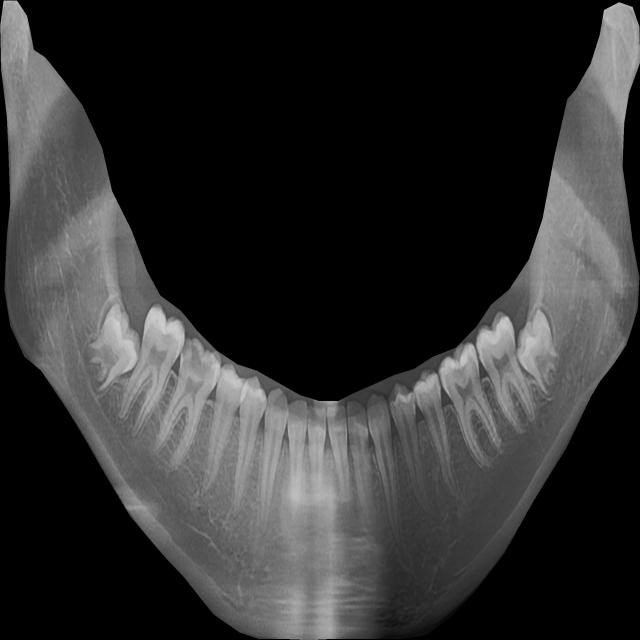mandibula: (0, 1, 640, 640)
